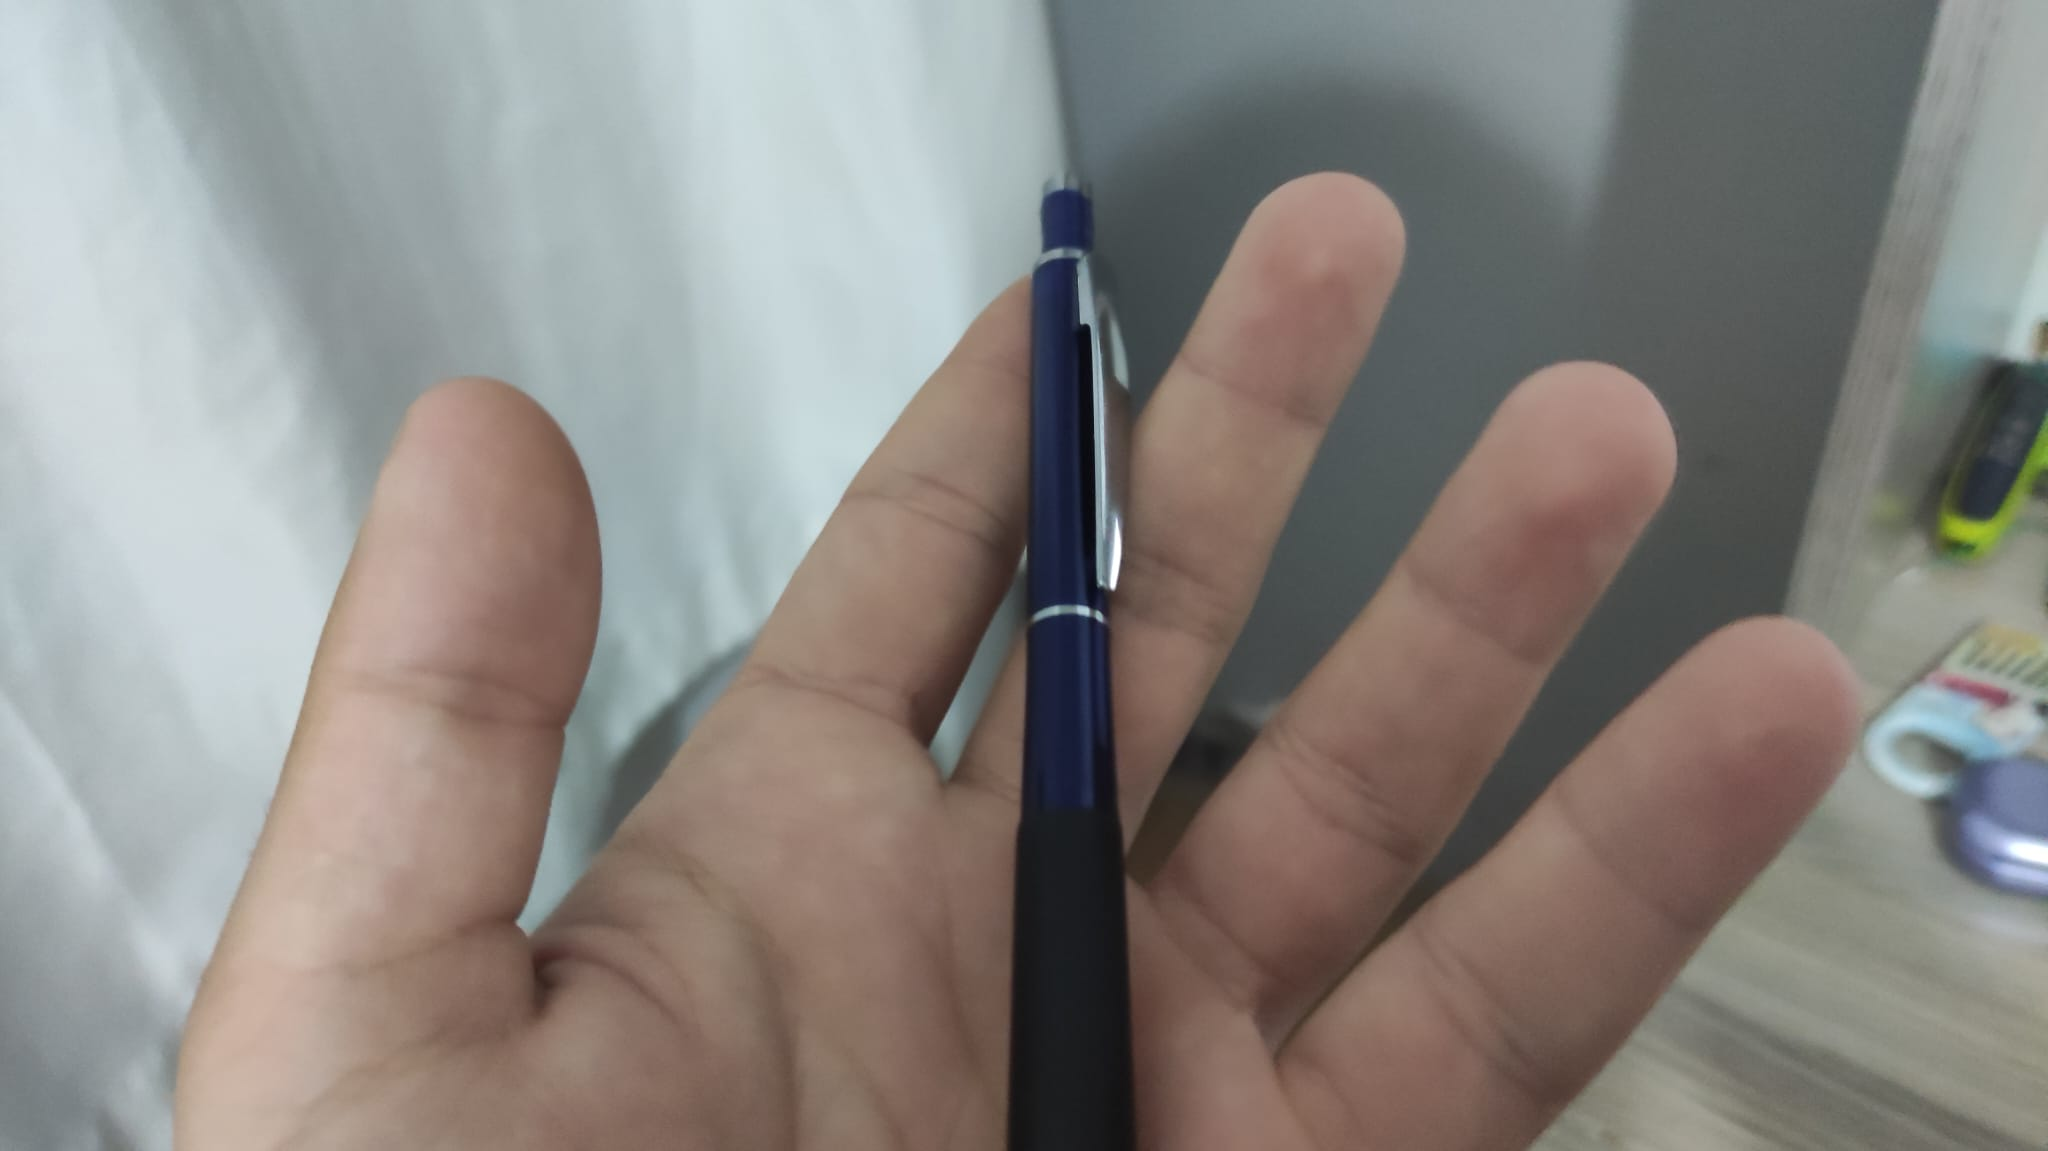kalem: (1007, 162, 1132, 1151)
